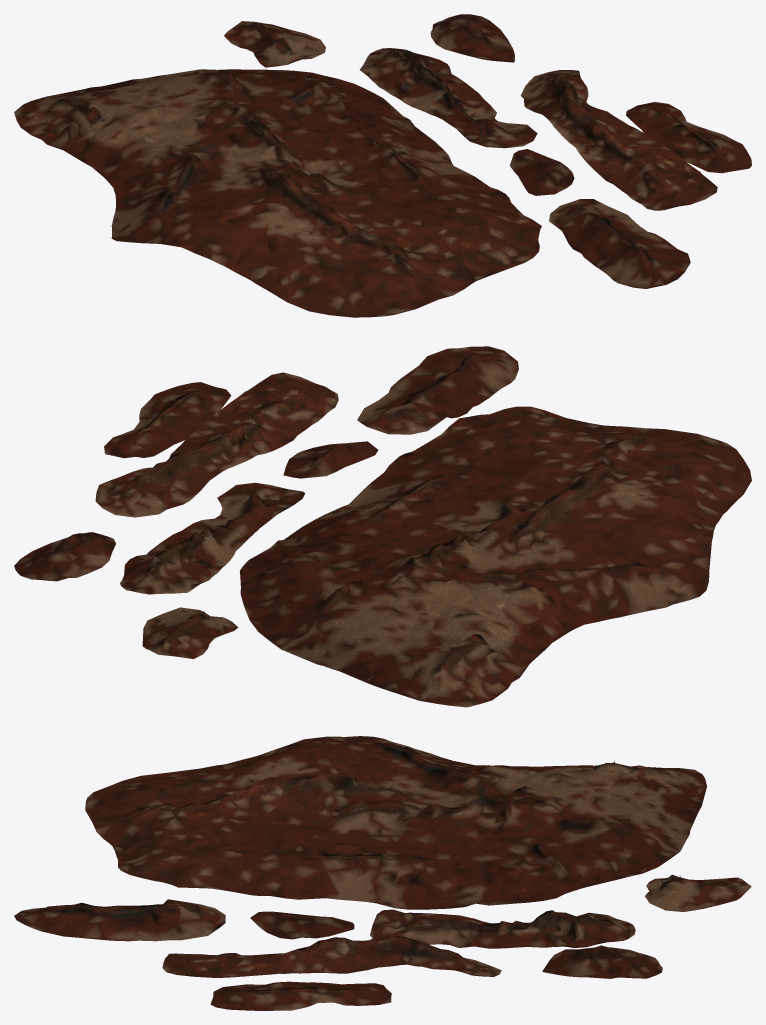
File: root_cluster_02.glb
3 views of the same model, one above another, from view 1: azimuth 30°, elevation 25°; view 2: azimuth 150°, elevation 25°; view 3: azimuth 270°, elevation 25° (orthographic). The views are drawn at different scales.
Visible parts, largest first — view 1: root_cluster_02_a, root_cluster_02_f, root_cluster_02_d, root_cluster_02_b, root_cluster_02_g, root_cluster_02_e, root_cluster_02_h, root_cluster_02_c; view 2: root_cluster_02_a, root_cluster_02_f, root_cluster_02_d, root_cluster_02_b, root_cluster_02_g, root_cluster_02_h, root_cluster_02_e, root_cluster_02_c; view 3: root_cluster_02_a, root_cluster_02_f, root_cluster_02_d, root_cluster_02_b, root_cluster_02_g, root_cluster_02_h, root_cluster_02_e, root_cluster_02_c.
Part boxes in pixels (box(x1,y1,x2,y2)): root_cluster_02_a: box(14, 69, 541, 317); root_cluster_02_f: box(520, 70, 717, 210); root_cluster_02_d: box(360, 48, 537, 148); root_cluster_02_b: box(549, 199, 690, 288); root_cluster_02_g: box(626, 102, 751, 173); root_cluster_02_e: box(224, 21, 325, 67); root_cluster_02_h: box(430, 14, 514, 62); root_cluster_02_c: box(510, 149, 574, 195); root_cluster_02_a: box(239, 406, 751, 707); root_cluster_02_f: box(95, 372, 338, 517); root_cluster_02_d: box(120, 482, 304, 594); root_cluster_02_b: box(357, 346, 518, 434); root_cluster_02_g: box(104, 382, 231, 458); root_cluster_02_h: box(14, 532, 115, 581); root_cluster_02_e: box(142, 607, 238, 658); root_cluster_02_c: box(283, 441, 378, 478); root_cluster_02_a: box(85, 736, 706, 909); root_cluster_02_f: box(162, 935, 501, 977); root_cluster_02_d: box(370, 909, 635, 948); root_cluster_02_b: box(14, 899, 225, 941); root_cluster_02_g: box(210, 981, 391, 1010); root_cluster_02_h: box(542, 945, 662, 978); root_cluster_02_e: box(645, 874, 751, 911); root_cluster_02_c: box(250, 911, 354, 939).
Size of the model in its own units: 2.38 by 0.1822 by 2.7.
1 material, 1 textured.
